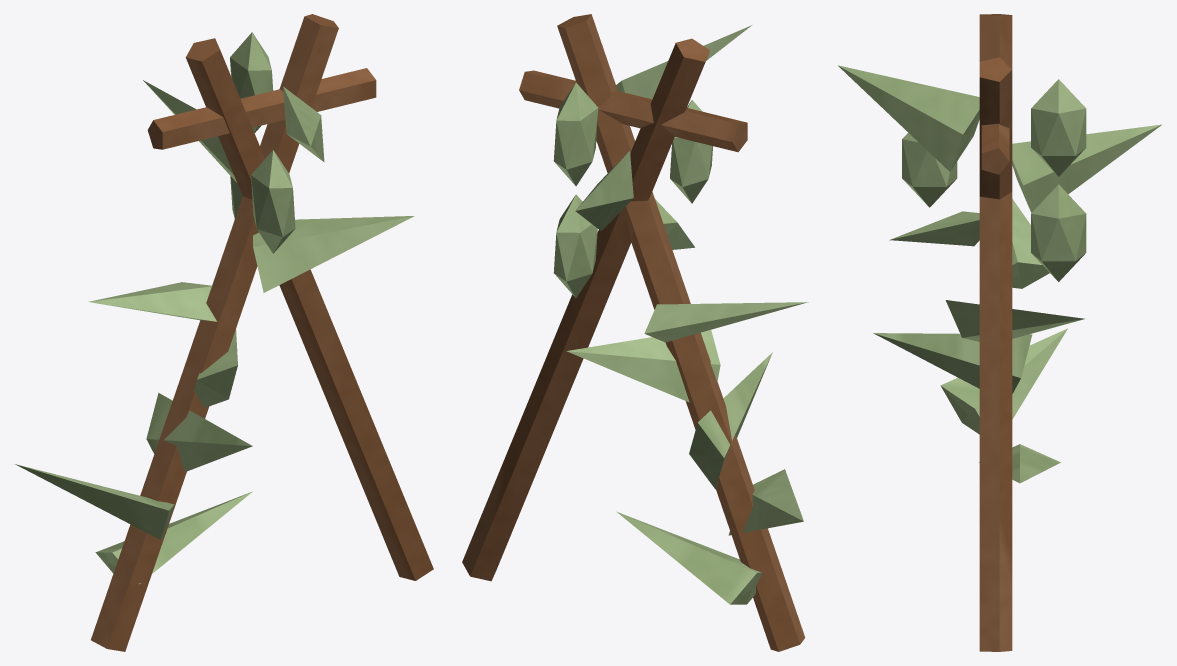
Rendered from sm_crop_pea_4.glb.
The picture shows the model from 3 angles, left to right: view 1: azimuth 30°, elevation 25°; view 2: azimuth 150°, elevation 25°; view 3: azimuth 270°, elevation 25°; orthographic projection. The views are drawn at different scales.
Visible parts, largest first — view 1: sm_crop_pea_4; view 2: sm_crop_pea_4; view 3: sm_crop_pea_4.
Boxes of the visible parts, left/top/right/bottom form: sm_crop_pea_4: left=15, top=14, right=433, bottom=651; sm_crop_pea_4: left=462, top=14, right=808, bottom=651; sm_crop_pea_4: left=838, top=14, right=1161, bottom=651.
Bounding box in the file's own units: 0.3187 × 0.4697 × 0.2524.
Materials: 1 (1 with a texture image).
